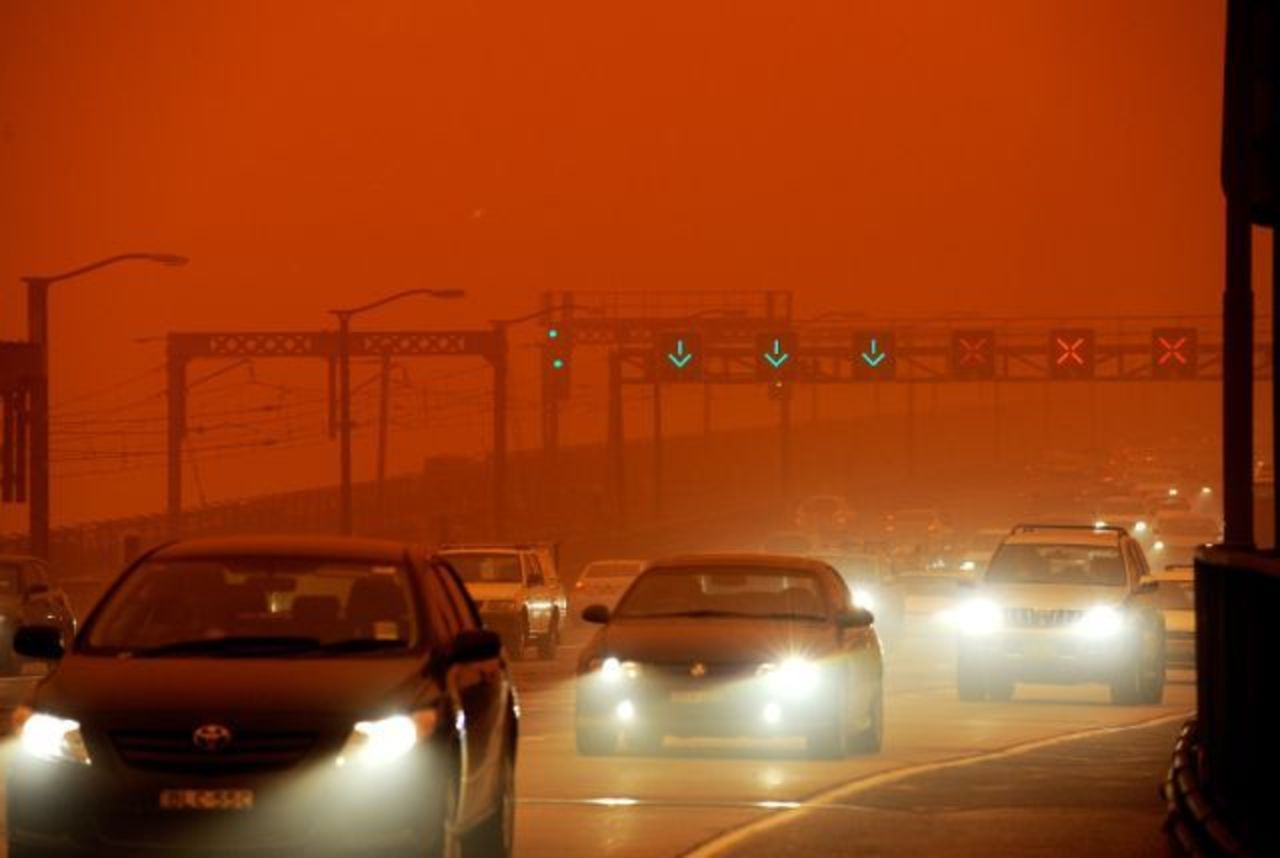car: (25, 536, 511, 845), (558, 557, 887, 767), (952, 519, 1167, 706), (442, 545, 568, 659), (1, 551, 88, 673), (807, 550, 908, 637), (888, 569, 970, 646), (572, 559, 648, 625), (1154, 518, 1222, 564), (791, 493, 857, 530), (1092, 498, 1150, 540), (881, 512, 951, 545)
